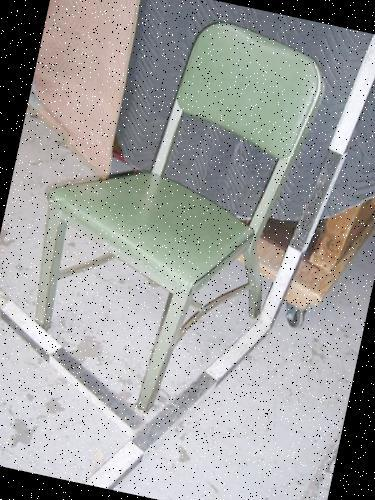Silla: (23, 0, 324, 423)
